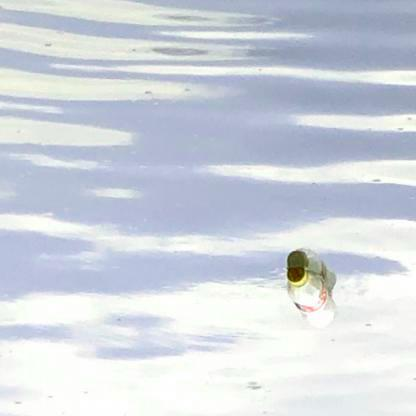Plastic: (282, 260, 338, 332)
